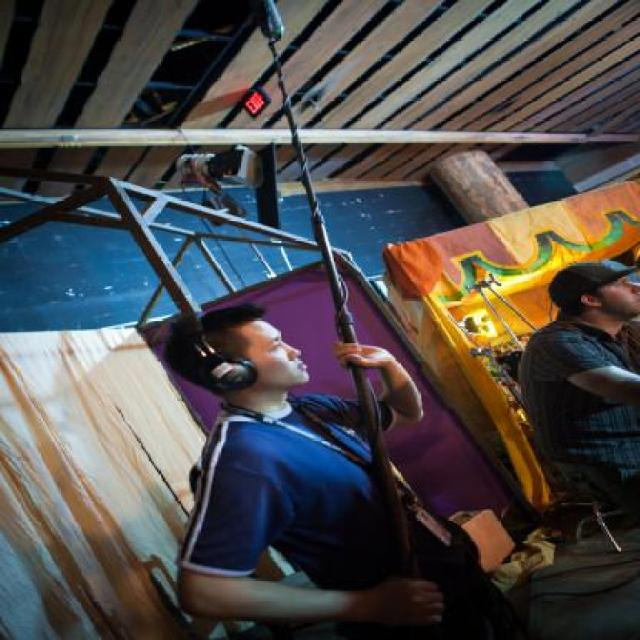earphone: (152, 297, 286, 400)
